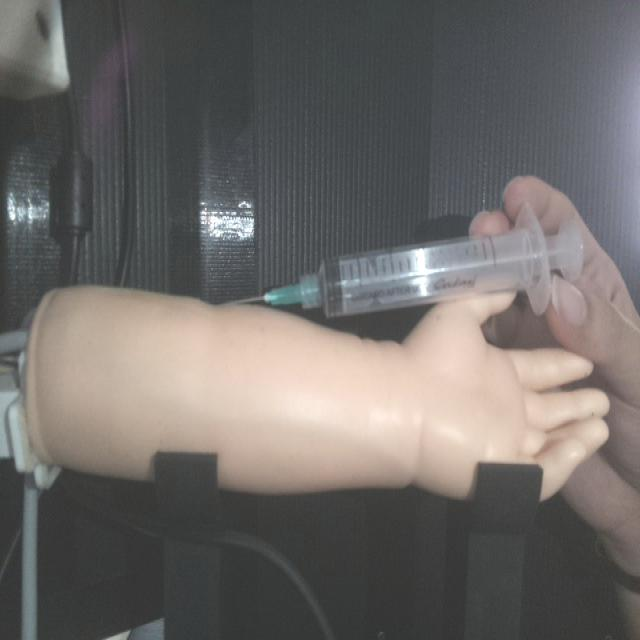Below 15 degrees: (227, 202, 586, 322)
